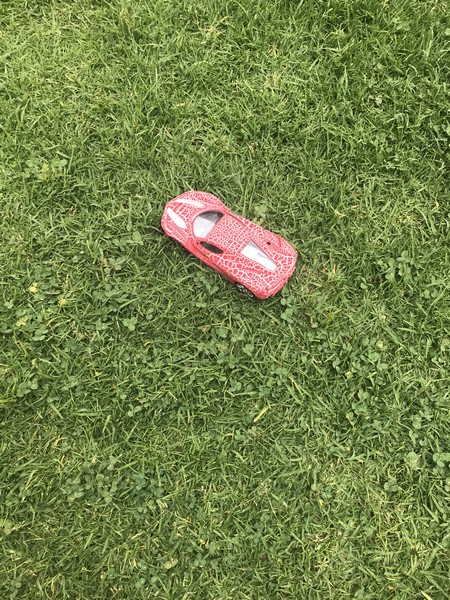RC: (159, 190, 303, 303)
